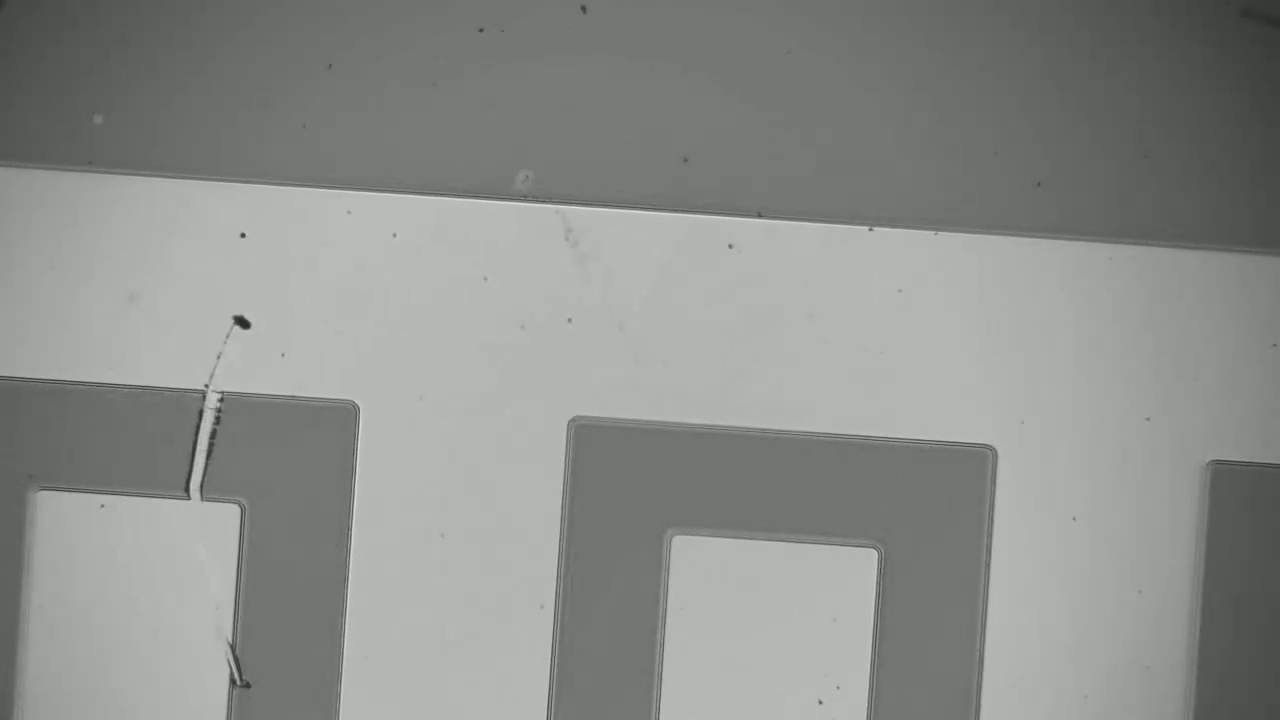Short_circuit: (149, 362, 241, 523)
